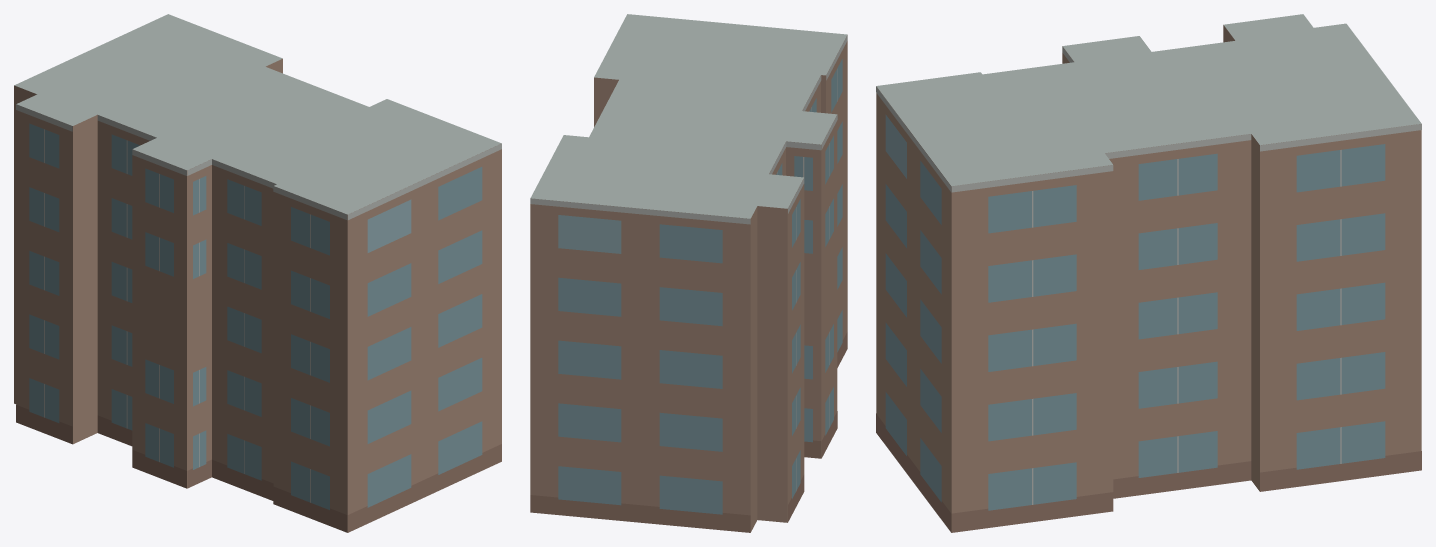
File: survey-upis-32621099.glb
The picture shows the model from 3 angles, left to right: view 1: azimuth 30°, elevation 25°; view 2: azimuth 150°, elevation 25°; view 3: azimuth 270°, elevation 25°; orthographic projection. The views are drawn at different scales.
Visible parts, largest first — view 1: survey-upis-32621099.tmp; view 2: survey-upis-32621099.tmp; view 3: survey-upis-32621099.tmp.
Boxes of the visible parts, x1,y1,x2,y2 form: survey-upis-32621099.tmp: [14, 14, 501, 532]; survey-upis-32621099.tmp: [530, 14, 847, 532]; survey-upis-32621099.tmp: [876, 14, 1421, 532].
Size of the model in its own units: 14.29 by 13.4 by 19.13.
